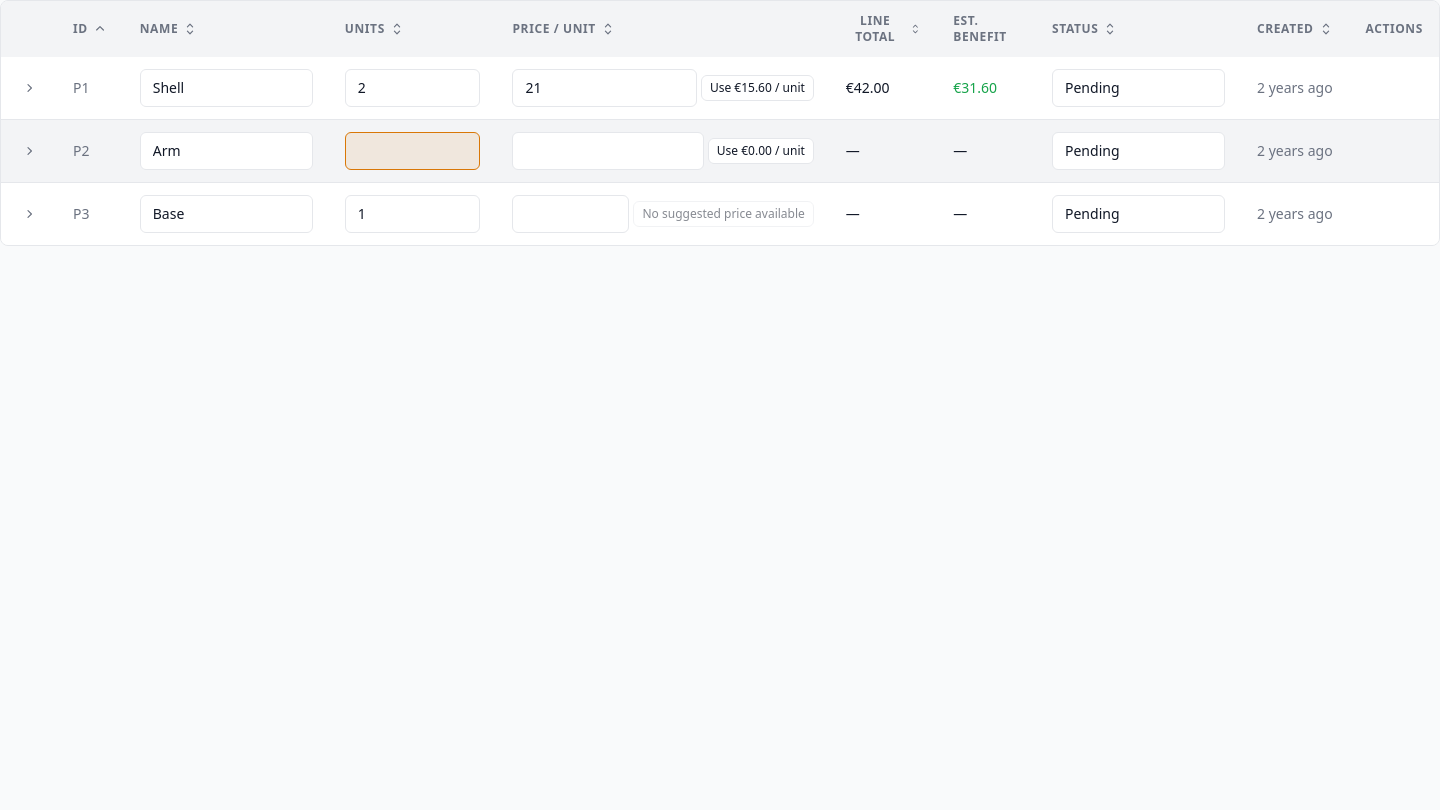
Test: PiecesTable › keeps several pieces expanded at once
This screenshot has width=1440, height=810.
Click the button named "Expand piece P1" at coordinates (29, 88), box [17,76,41,100]
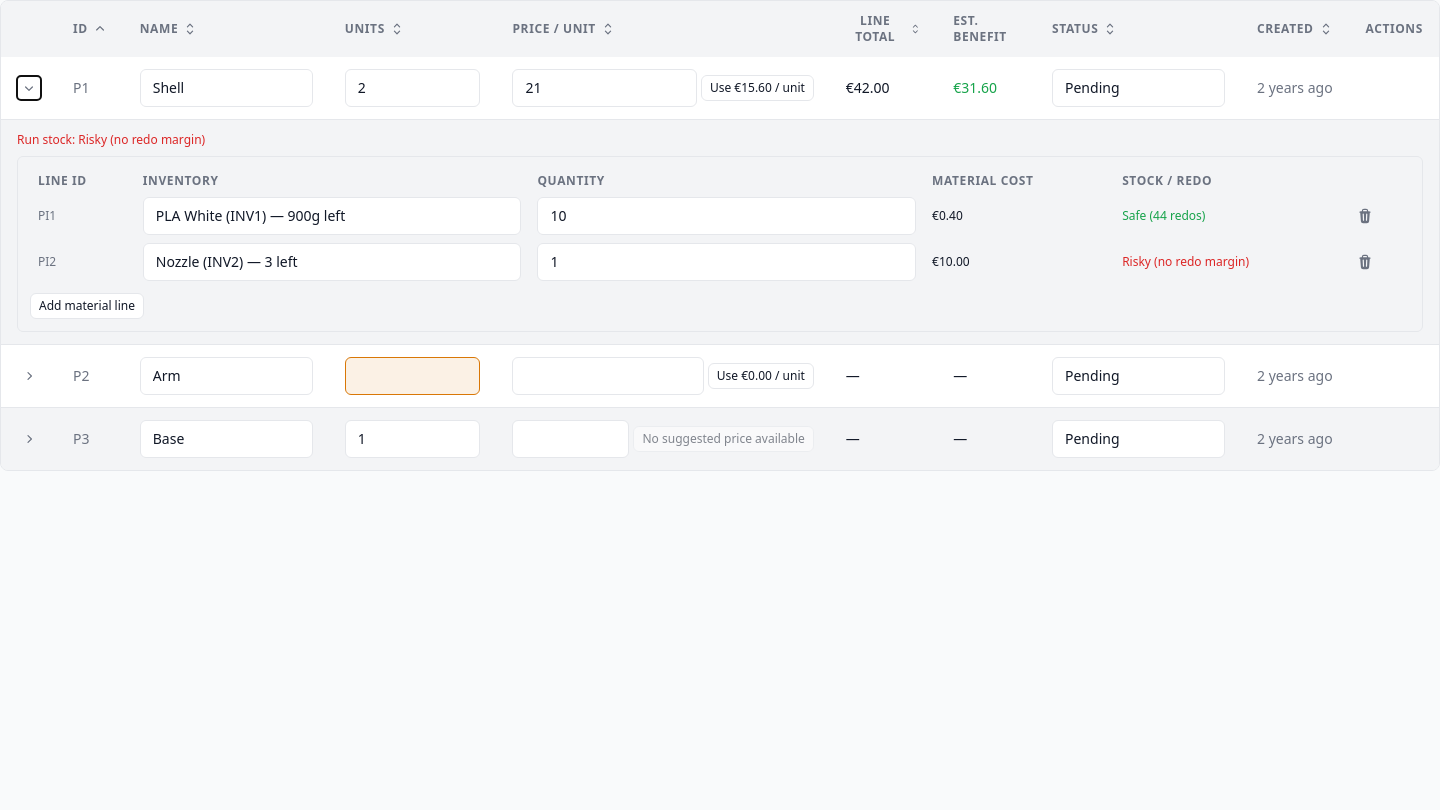
Click the button named "Expand piece P3" at coordinates (29, 438), box [17,426,41,450]
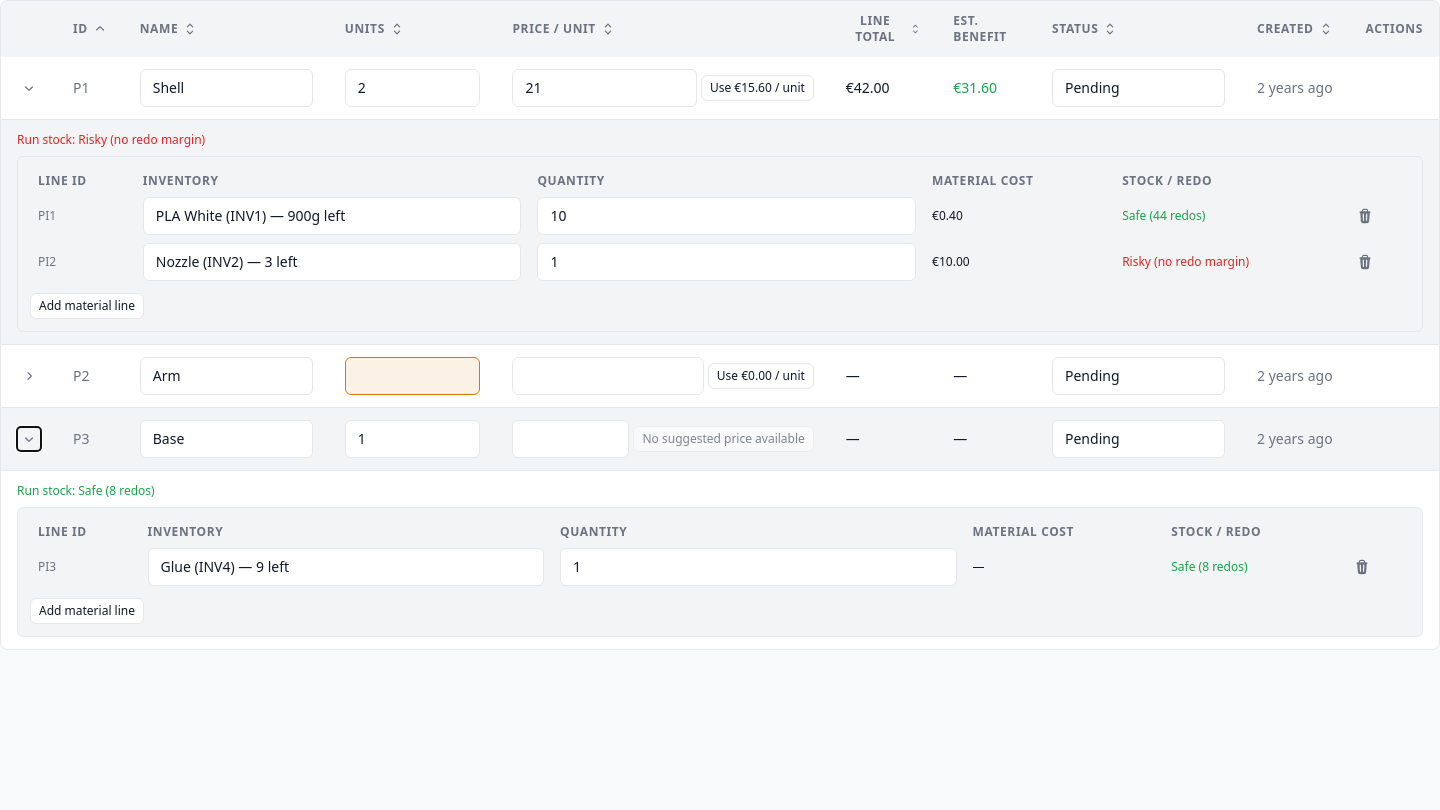
Expected: the row with test id "piece-item-row-PI1" is shown, [30,193,1410,239]
Expected: the row with test id "piece-item-row-PI3" is shown, [30,544,1410,590]
